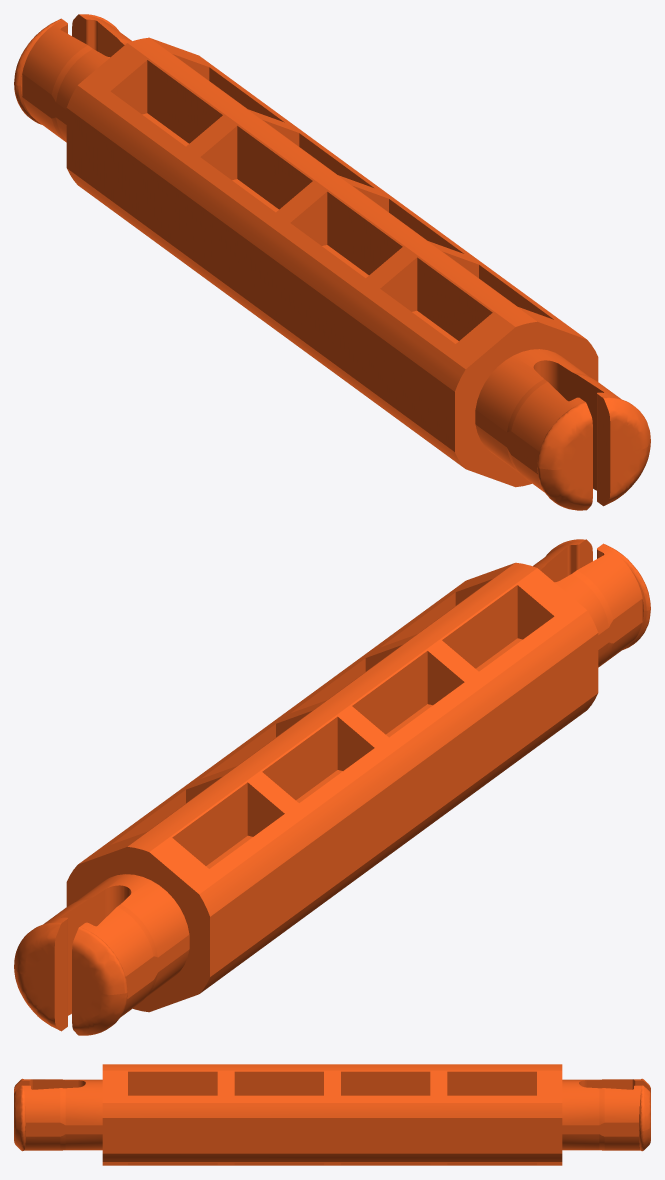
The model's file is 2x Pitch Standoff (Weak) (228-2500-2271).glb.
3 views of the same model, one above another, from view 1: azimuth 30°, elevation 25°; view 2: azimuth 150°, elevation 25°; view 3: azimuth 270°, elevation 25° (orthographic). The views are drawn at different scales.
Visible parts, largest first — view 1: 2x Pitch Standoff (Weak) (228-2500-2271); view 2: 2x Pitch Standoff (Weak) (228-2500-2271); view 3: 2x Pitch Standoff (Weak) (228-2500-2271).
Boxes of the visible parts, left/top/right/bottom form: 2x Pitch Standoff (Weak) (228-2500-2271): left=14, top=14, right=650, bottom=510; 2x Pitch Standoff (Weak) (228-2500-2271): left=14, top=539, right=650, bottom=1035; 2x Pitch Standoff (Weak) (228-2500-2271): left=14, top=1064, right=650, bottom=1165.
Bounding box in the file's own units: 0.2283 × 0.2458 × 1.48.
